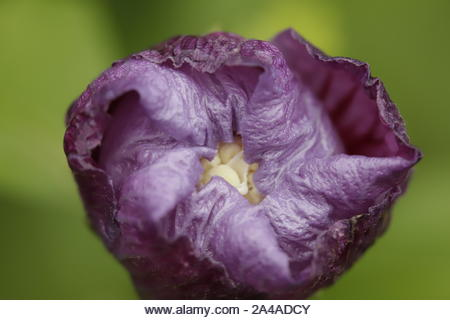Hibiscus: (56, 29, 423, 306)
